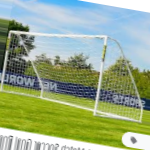goals: (1, 30, 144, 123)
